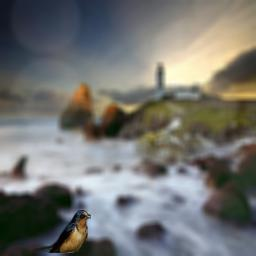Swallow: (33, 210, 91, 253)
